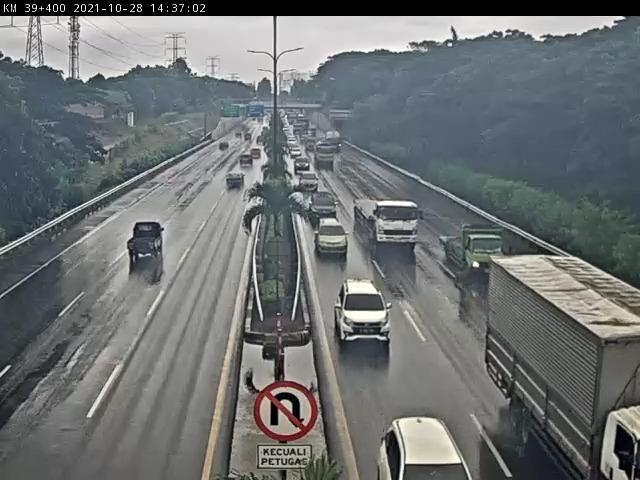car: (373, 391, 466, 480), (341, 277, 389, 350), (117, 214, 175, 269), (317, 214, 350, 253), (224, 173, 247, 197), (314, 188, 334, 214)
truck: (480, 252, 640, 480), (354, 199, 425, 252), (442, 219, 493, 271)
